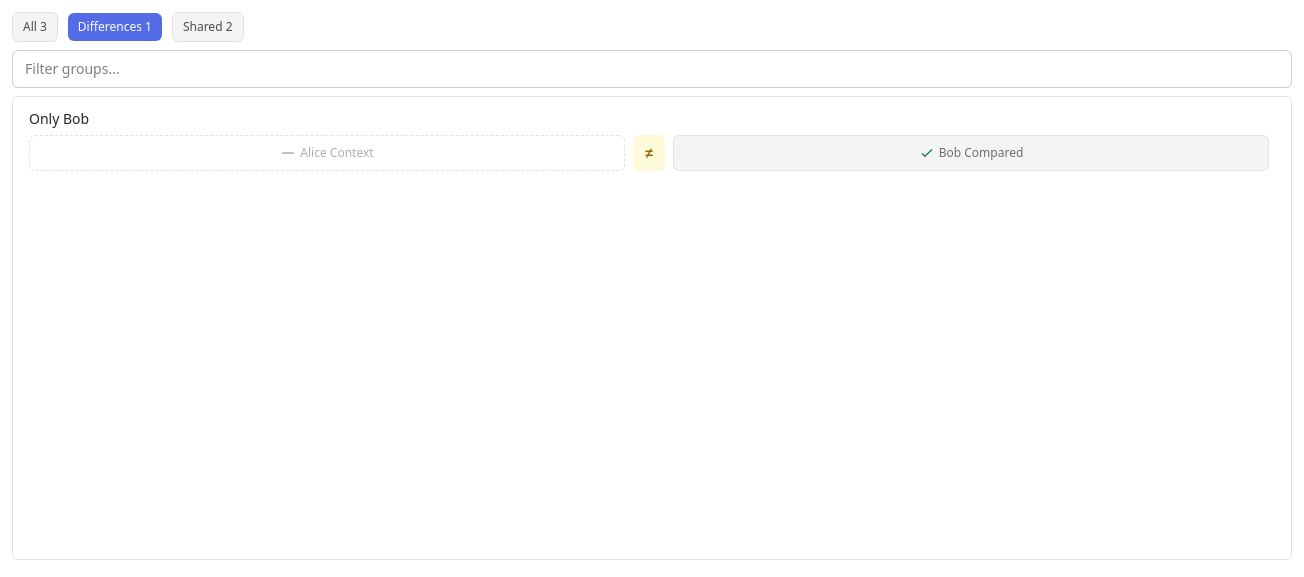
filtering and search › shows the shared rows on demand
Click the button "Shared 2" at (208, 27), box left=172, top=12, right=244, bottom=42
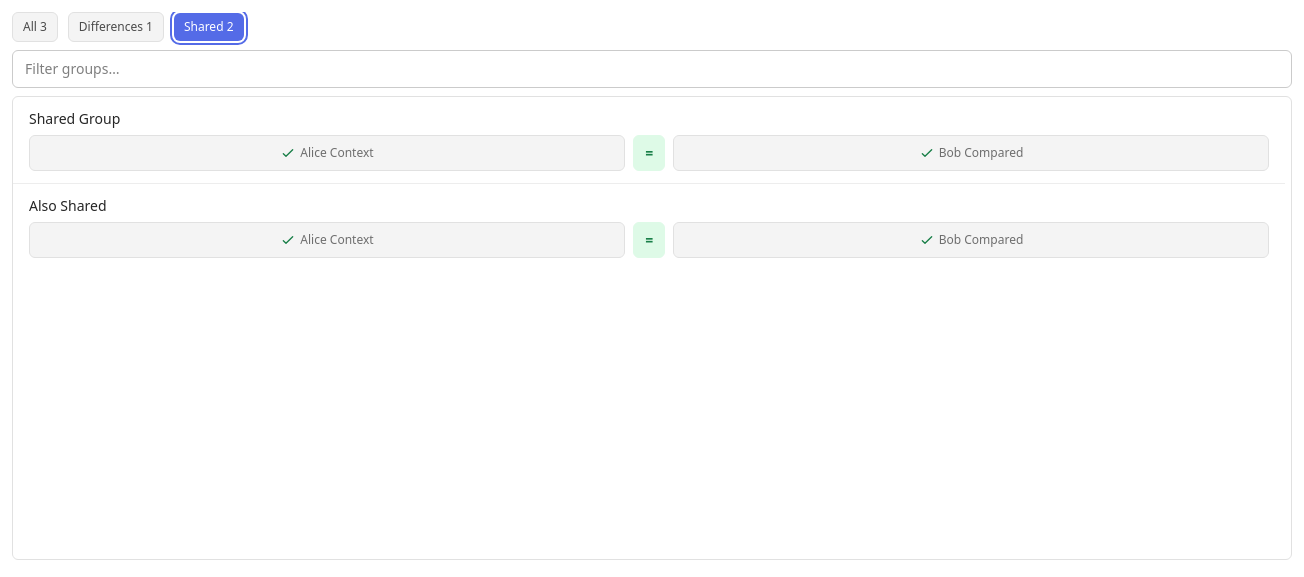
Expected: the text titled "Shared Group" is shown, left=29, top=109, right=120, bottom=128
Expected: the text titled "Only Bob" is gone
